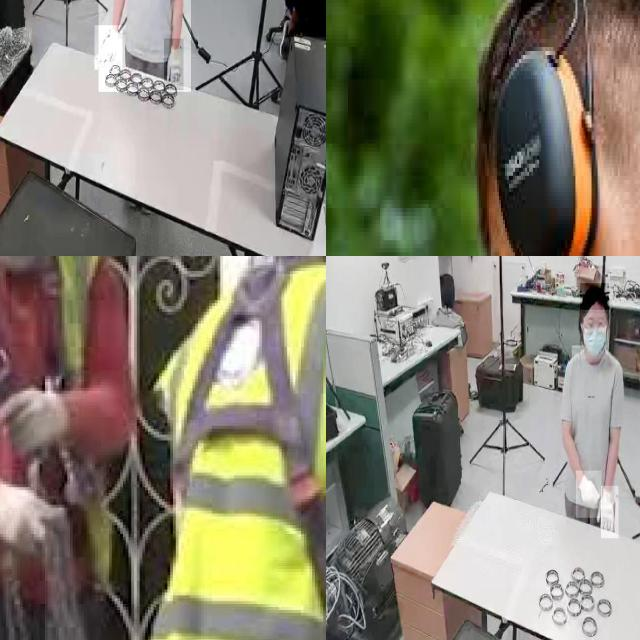Ear-protection: (490, 0, 615, 256)
Harness: (174, 258, 326, 621)
face_mask: (582, 313, 608, 359)
hand_glove: (95, 25, 123, 71), (576, 471, 602, 518), (164, 39, 184, 91), (601, 486, 619, 539)
head_nohelmet: (580, 283, 610, 311)
person: (560, 274, 630, 530), (98, 0, 191, 92)
